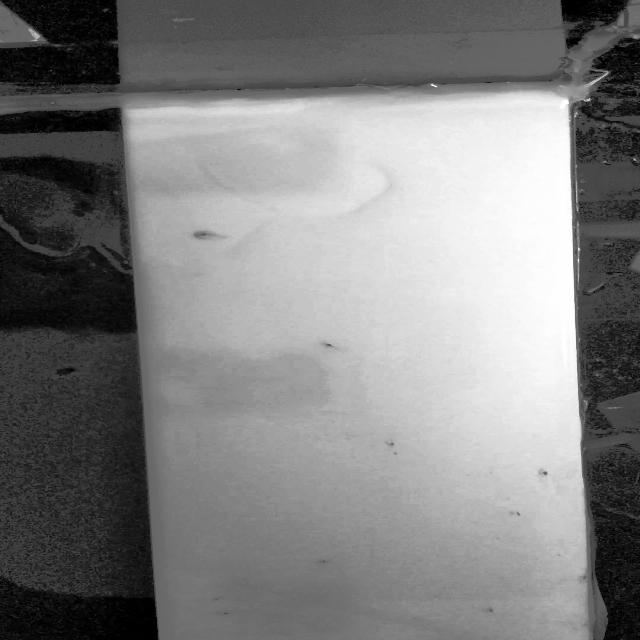shrimp: (306, 554, 341, 566), (193, 230, 234, 240), (314, 340, 342, 351), (210, 608, 233, 620), (203, 595, 231, 604), (540, 469, 557, 483), (479, 605, 495, 618), (505, 509, 523, 518), (383, 440, 401, 448), (576, 573, 590, 582), (385, 452, 402, 457)
